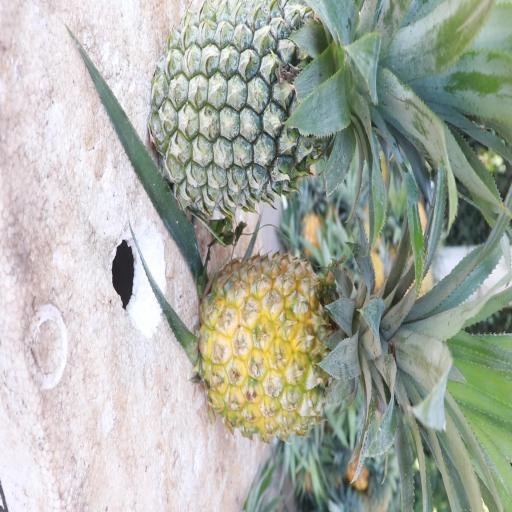Pineapple - v8 v1: (203, 238, 497, 474)
